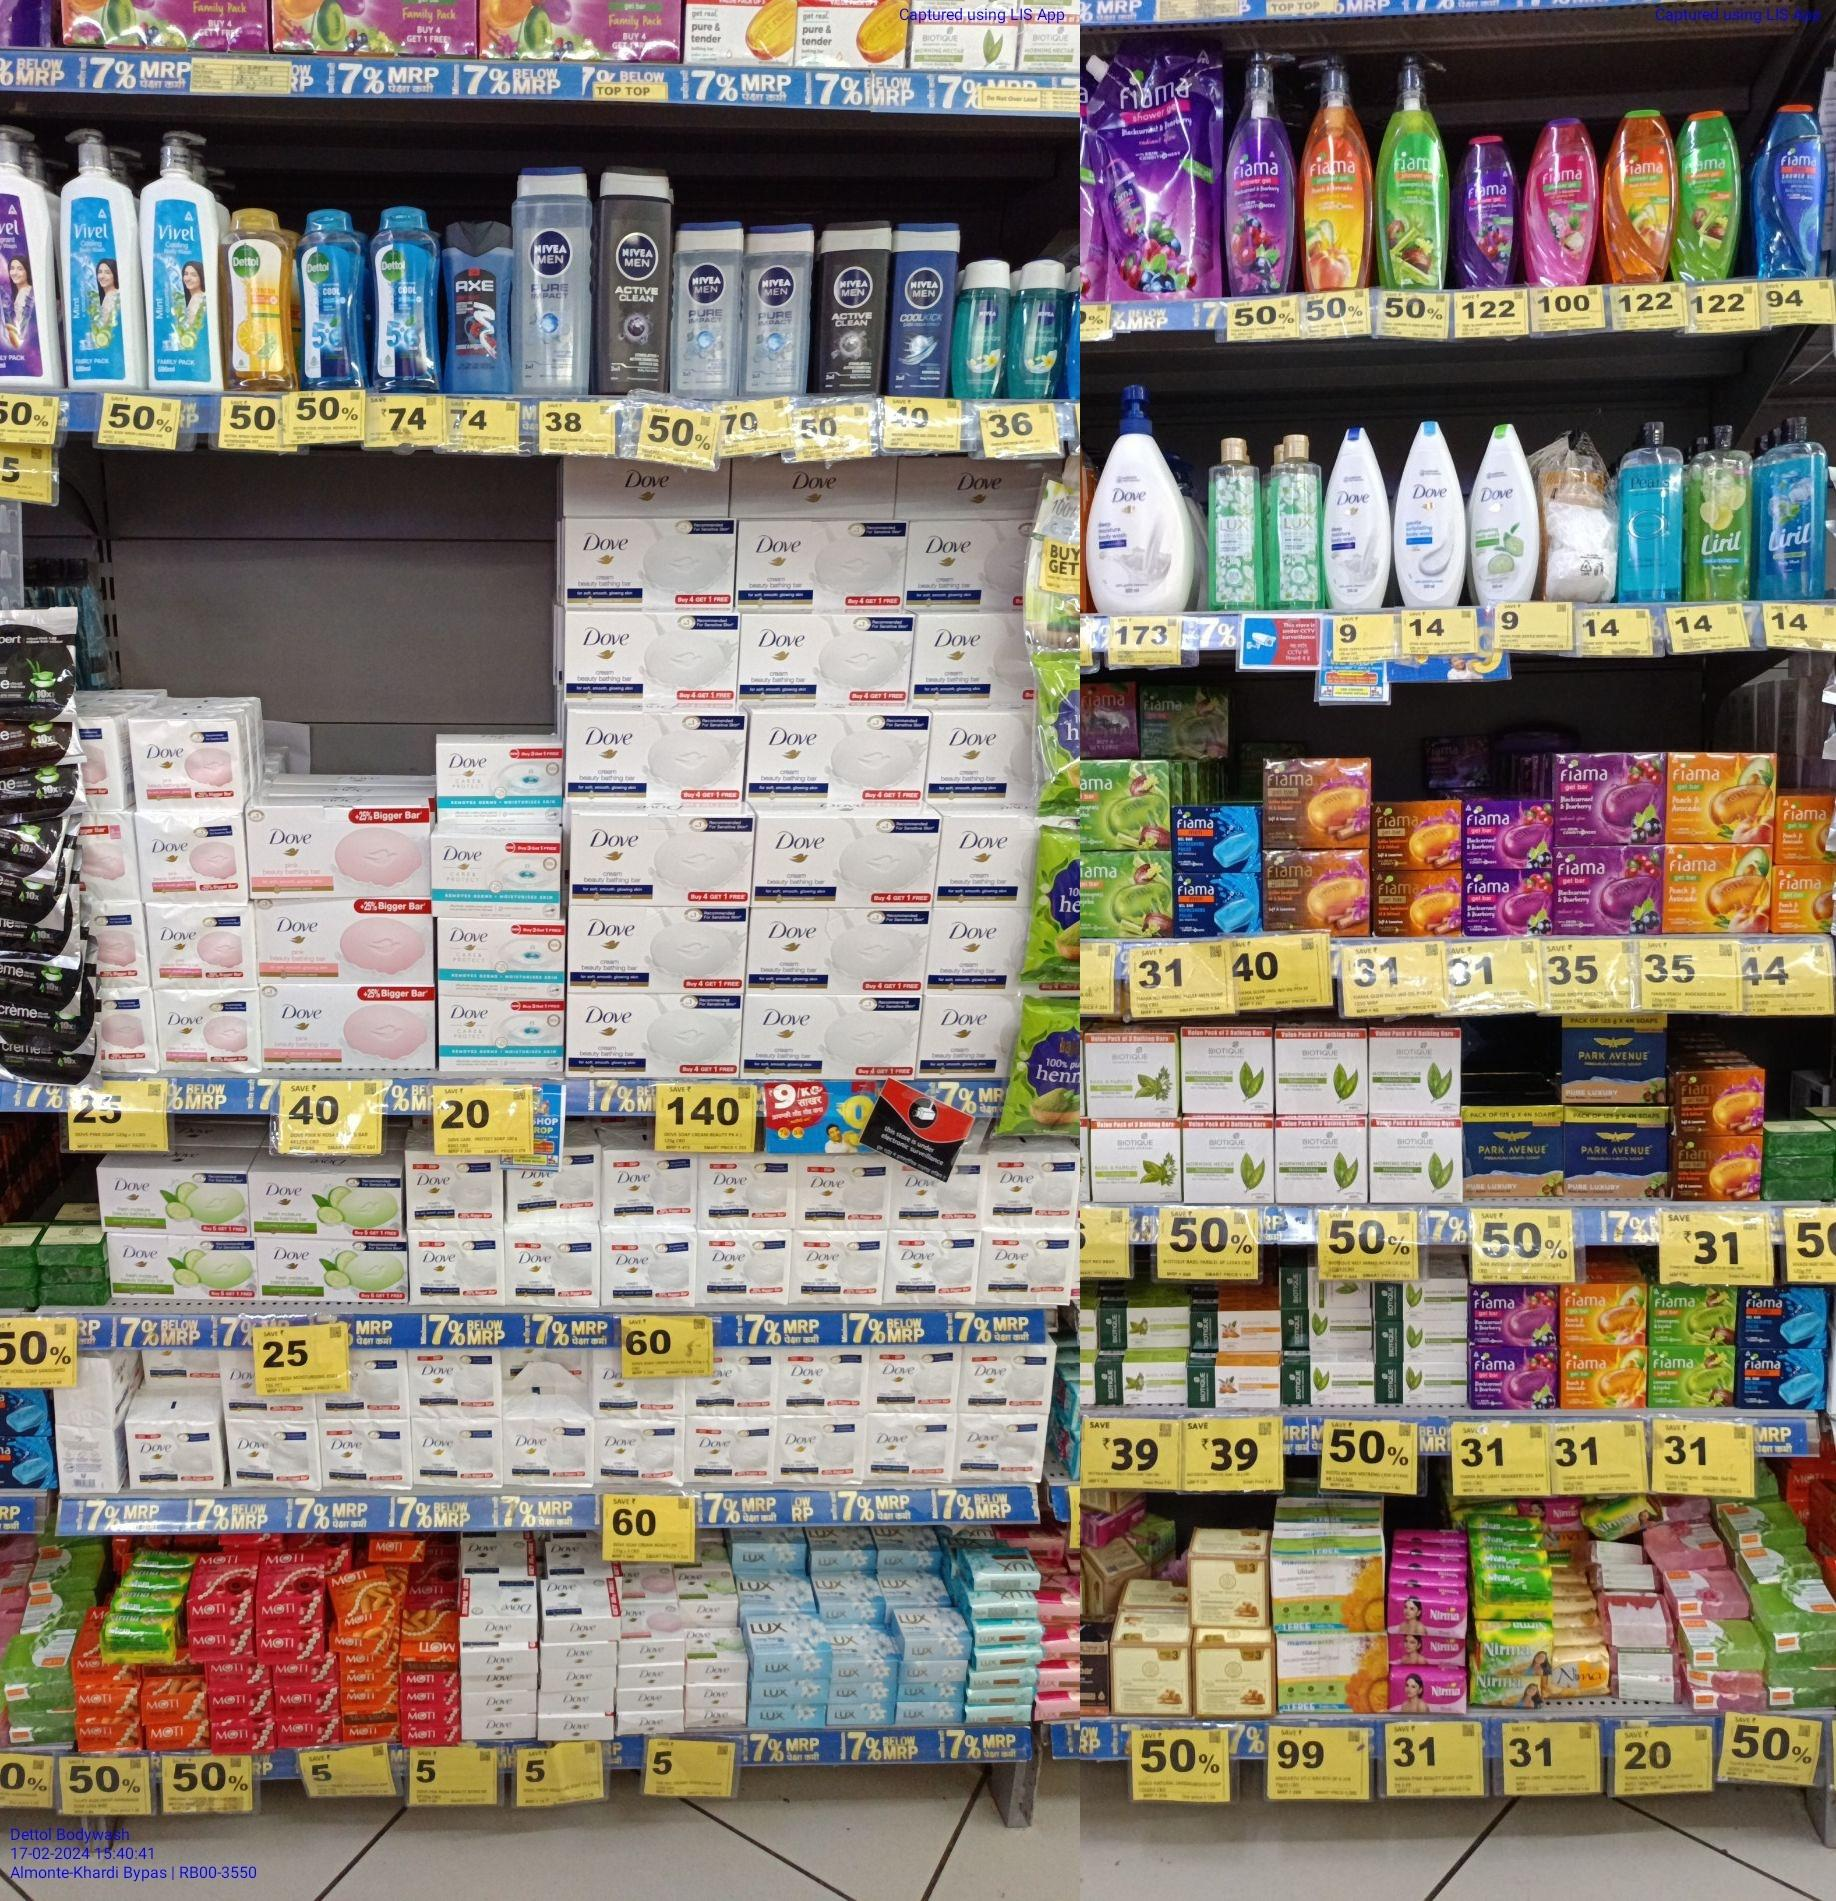Dettol_Bodywash_Cool: (368, 202, 441, 390), (297, 207, 365, 390)
Dettol_Bodywash_Refresh: (217, 209, 295, 392)
Dove_Deep_Moisture_Body_Wash_250ML: (1329, 423, 1388, 616)
Dove_Gentle_Exfoliating_Body_Wash_250ML: (1390, 416, 1464, 609)
Dove_Refreshing_Body_Wash_250ML: (1464, 412, 1539, 604)
Fiama_Shower_Gel_Lemongrass_and_Jojoba_250ML: (1680, 110, 1738, 280)
Fiama_Shower_Gel_Patchouli_and_Macadamia_250ML: (1525, 117, 1598, 285)
Fiama_Shower_Gel_Peach_and_Avocado_250ML: (1604, 107, 1675, 280)
Liril_Cooling_Mint_Body_Wash_250ML: (1756, 414, 1822, 597)
Liril_Lime_and_Tea_Tree_Oil_Body_Wash_250ML: (1685, 416, 1748, 601)
Lux_Body_Wash_Skin_Detox_Freesia_Scent_and_Alove_Vera_245ML: (1269, 433, 1324, 618), (1210, 436, 1262, 611)
Pears_Pure_Glycerin_and_Mint_Extracts_Body_Wash_250ML: (1619, 419, 1683, 603)
